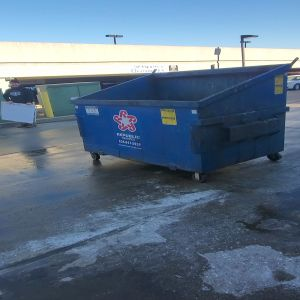Dumpster: (72, 63, 291, 184)
Person: (2, 78, 38, 104)
